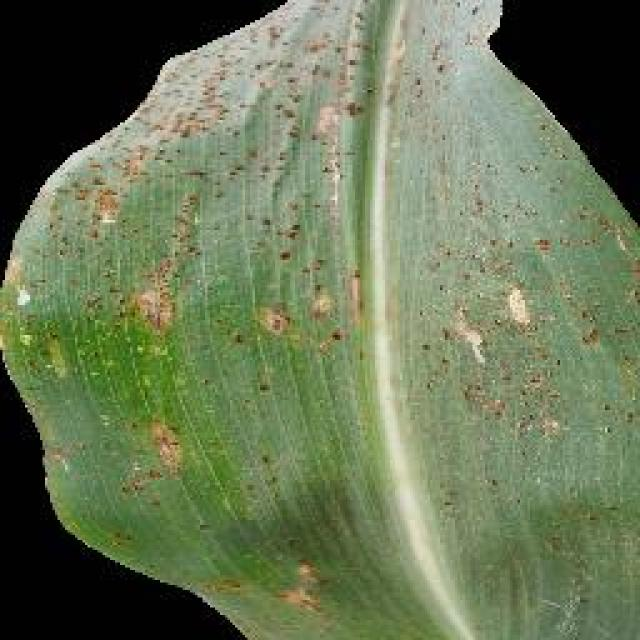Corn Common Rust: (110, 83, 595, 602)
